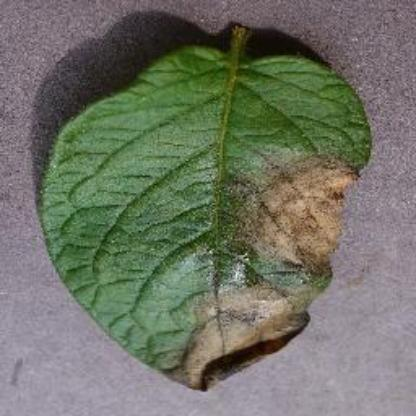Late-Blight: (9, 12, 403, 406)
